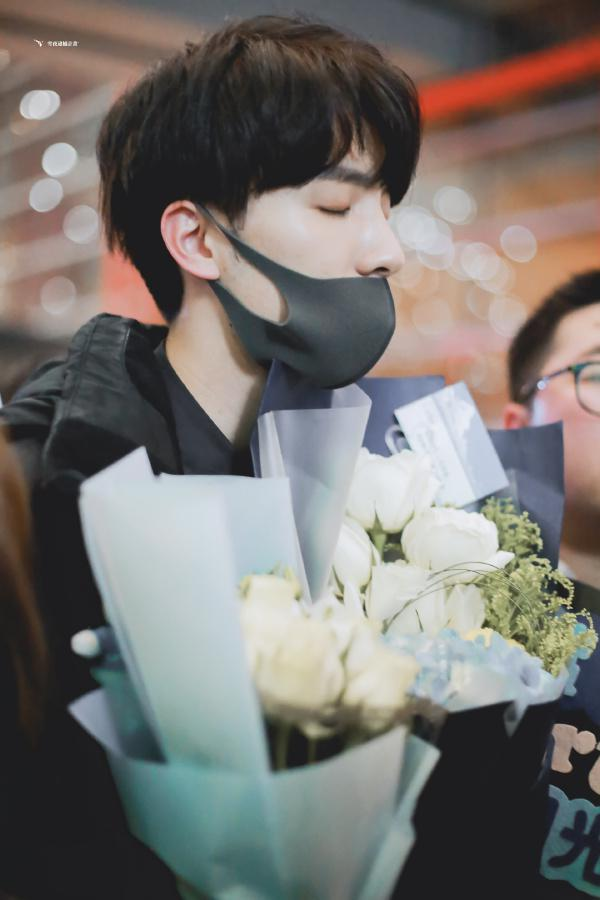WRONG: (217, 133, 404, 387)
